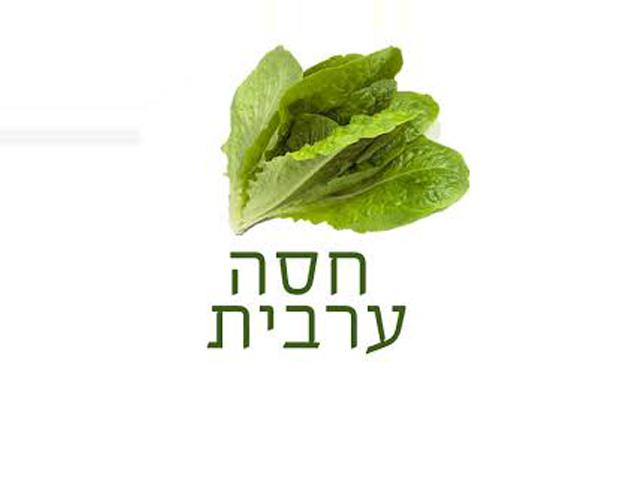lettuce: (206, 45, 470, 255)
